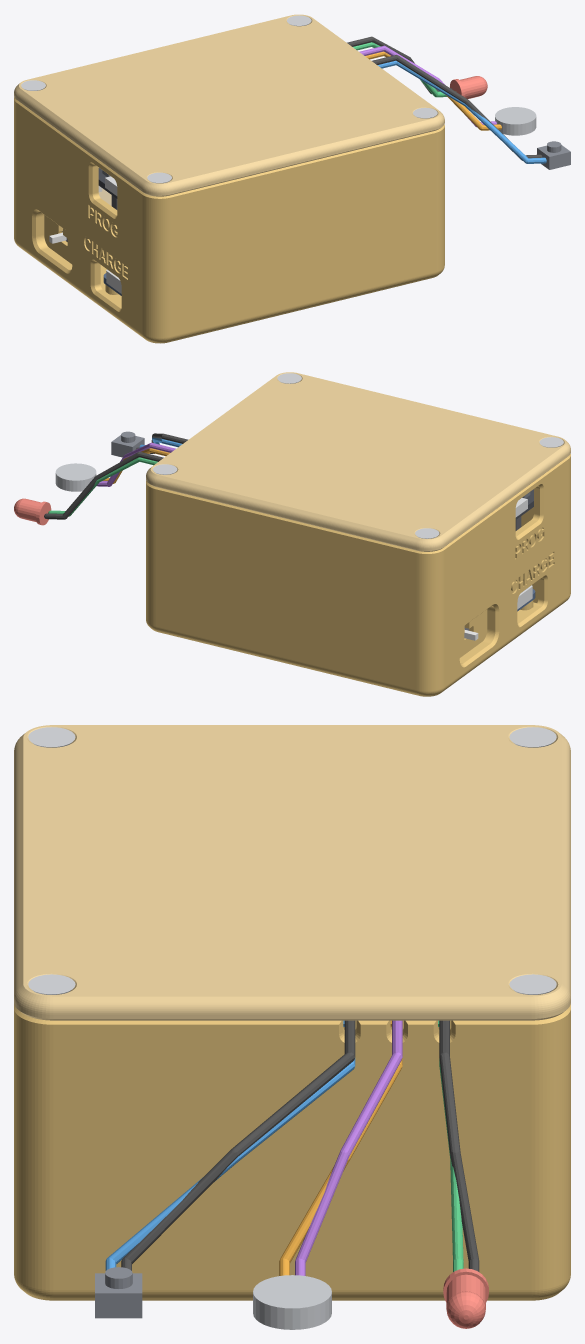
Rendered from assembly-30pin.glb.
3 views of the same model, one above another, from view 1: azimuth 30°, elevation 25°; view 2: azimuth 150°, elevation 25°; view 3: azimuth 270°, elevation 25° (orthographic). The views are drawn at different scales.
Visible parts, largest first — view 1: Box body (printed), Lid (printed), GND (black), Coin vibration motor, Paw button, GPIO 27 (blue), 4 x M3x10 countersunk lid screws, Paw push button, LED, Motor +, after R3 (orange); view 2: Box body (printed), Lid (printed), GND (black), Coin vibration motor, 4 x M3x10 countersunk lid screws, LED, Paw push button, LED signal, GPIO 25 (green), Motor -, to collector (purple); view 3: Lid (printed), Box body (printed), GND (black), Coin vibration motor, 4 x M3x10 countersunk lid screws, Motor -, to collector (purple), Paw push button, LED, Paw button, GPIO 27 (blue), Motor +, after R3 (orange), LED signal, GPIO 25 (green).
Boxes of the visible parts, box(x1,y1,x2,y2) form: Box body (printed): box(14, 97, 444, 343); Lid (printed): box(14, 14, 444, 196); GND (black): box(347, 36, 542, 160); Coin vibration motor: box(495, 107, 536, 135); Paw button, GPIO 27 (blue): box(377, 60, 546, 163); 4 x M3x10 countersunk lid screws: box(21, 15, 437, 183); Paw push button: box(537, 141, 570, 169); LED: box(450, 76, 487, 98); Motor +, after R3 (orange): box(365, 51, 501, 130); Box body (printed): box(146, 454, 570, 696); Lid (printed): box(146, 372, 570, 551); GND (black): box(44, 433, 188, 519); Coin vibration motor: box(55, 463, 96, 491); 4 x M3x10 countersunk lid screws: box(153, 373, 563, 538); LED: box(14, 498, 51, 525); Paw push button: box(111, 431, 144, 457); LED signal, GPIO 25 (green): box(48, 457, 157, 516); Motor -, to collector (purple): box(90, 442, 175, 486); Lid (printed): box(14, 725, 570, 1020); Box body (printed): box(14, 1004, 570, 1300); GND (black): box(121, 1020, 479, 1271); Coin vibration motor: box(253, 1275, 331, 1329); 4 x M3x10 countersunk lid screws: box(28, 727, 556, 994); Motor -, to collector (purple): box(295, 1020, 402, 1275); Paw push button: box(95, 1267, 142, 1318); LED: box(443, 1268, 488, 1328); Paw button, GPIO 27 (blue): box(105, 1020, 355, 1270); Motor +, after R3 (orange): box(279, 1020, 402, 1275); LED signal, GPIO 25 (green): box(438, 1020, 463, 1271).
Size of the model in its own units: 0.1267 by 0.0425 by 0.0705.
